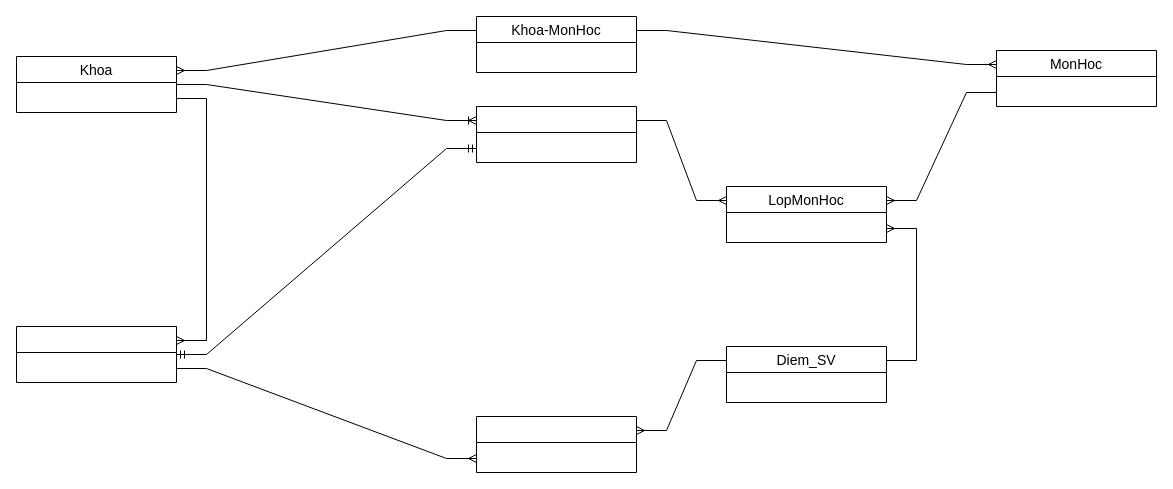
The diagram is 1173 pixels wide and 489 high, and some of its shapes have lost their labels. Here are the shapes that lost their labels. From the top down, the centre of each, then its label:
At point 556,134: "GiangVien".
At point 96,354: "LopQL".
At point 556,444: "SinhVien".
